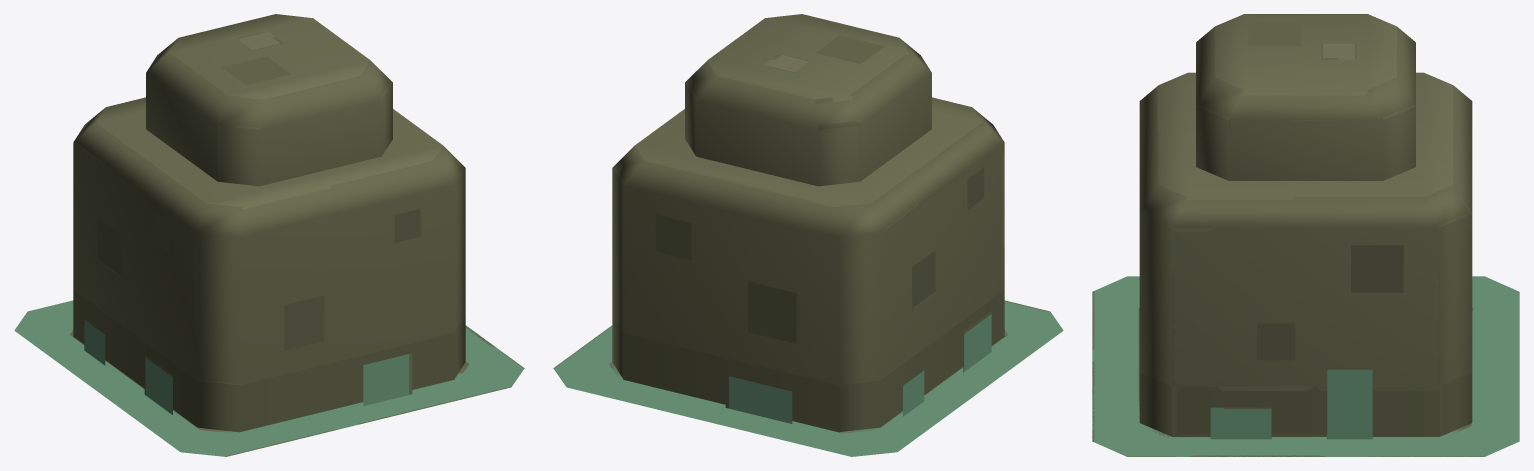
File: B_water1_rock00.fbx
3 renders of one model, left to right at view 1: azimuth 30°, elevation 25°; view 2: azimuth 150°, elevation 25°; view 3: azimuth 270°, elevation 25°, orthographic. The views are drawn at different scales.
Visible parts, largest first — view 1: model 1, model; view 2: model 1, model; view 3: model 1, model.
Part boxes in pixels (<box>): model 1: <box>14,14,524,456</box>; model: <box>15,300,524,456</box>; model 1: <box>553,14,1062,456</box>; model: <box>553,300,1063,456</box>; model 1: <box>1092,14,1519,456</box>; model: <box>1092,276,1519,456</box>.
Bounding box in the file's own units: 1.92 × 1.6 × 1.92.
1 material, 1 textured.
